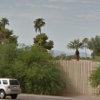Palm tree: (27, 10, 85, 58)
